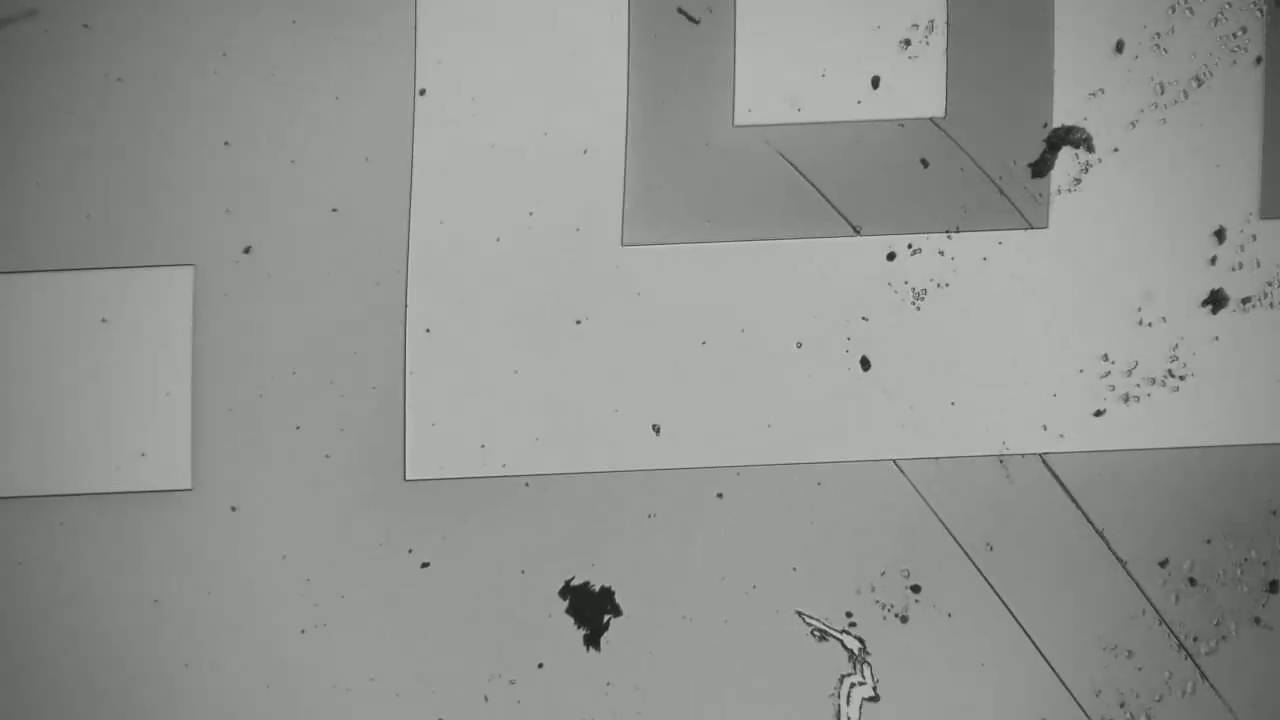scratch: (1031, 451, 1237, 720), (901, 463, 1095, 720), (754, 128, 880, 233), (940, 123, 1039, 229)
